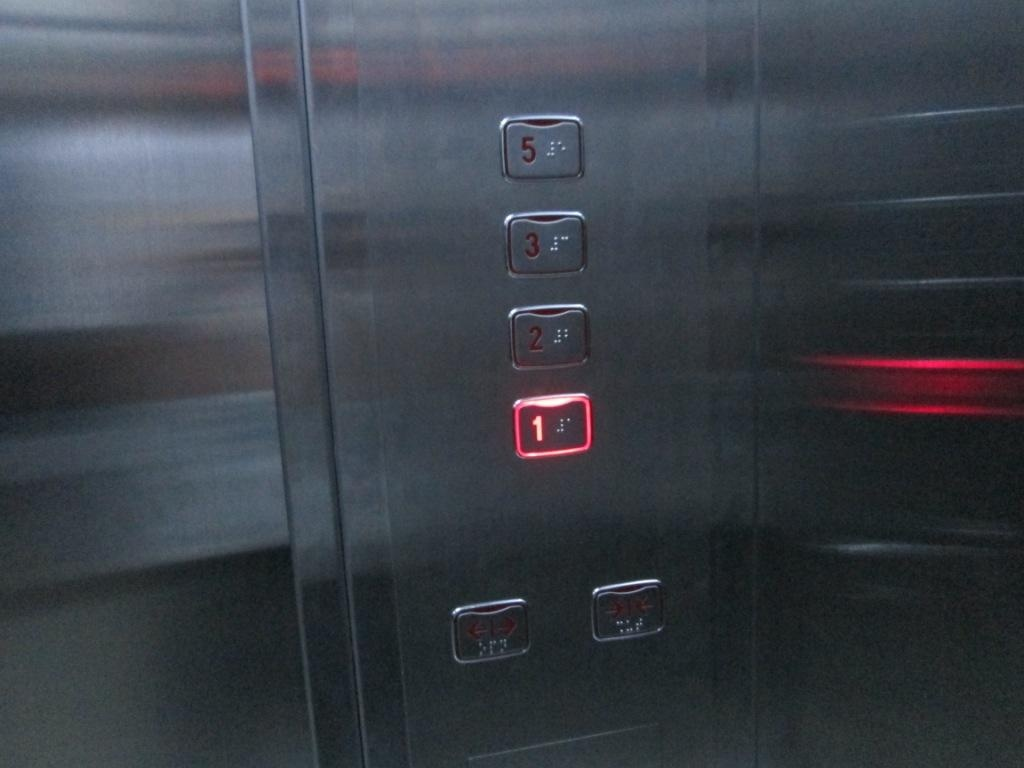1: (509, 389, 594, 459)
2: (506, 300, 593, 374)
3: (502, 208, 593, 281)
5: (499, 114, 588, 182)
close: (590, 579, 667, 641)
open: (449, 596, 533, 665)
